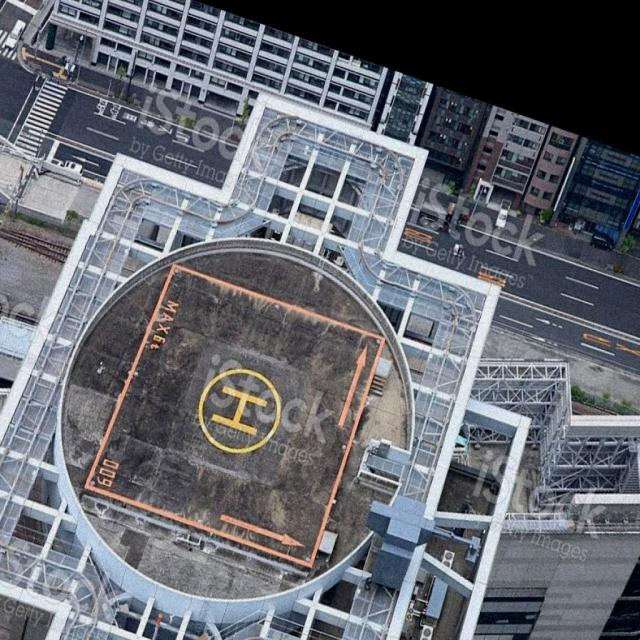helipad: (192, 364, 284, 457)
